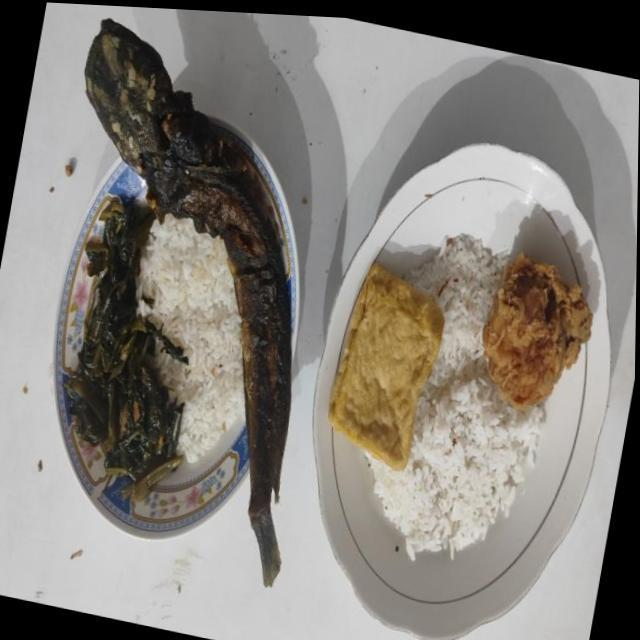nasi_putih: (366, 235, 546, 560), (136, 214, 245, 463)
tahu_goreng: (328, 264, 444, 470)
tumis_kangkung: (64, 201, 188, 490)
